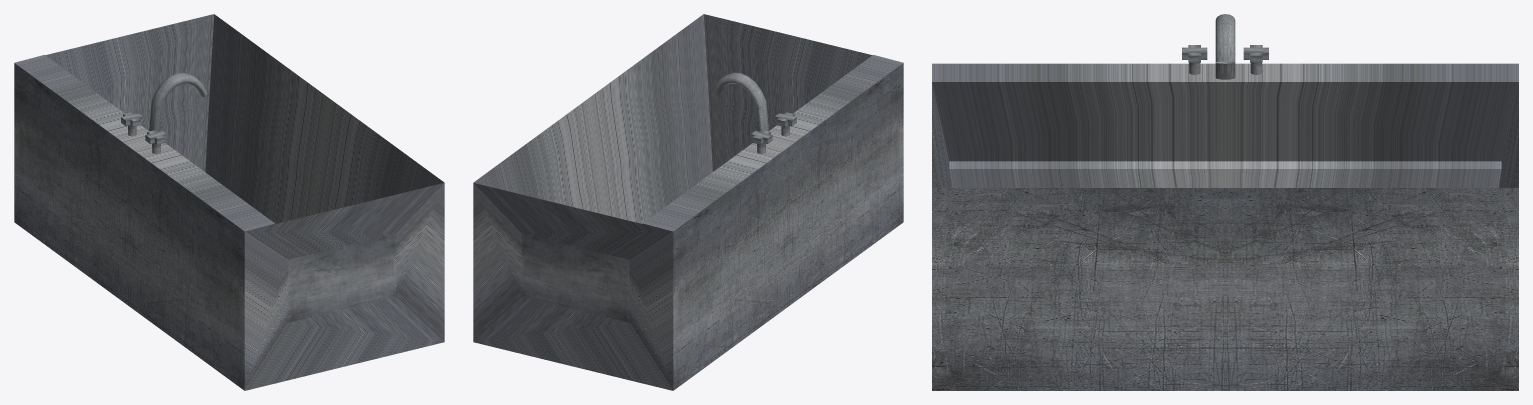
Rendered from Bath.FBX.
The picture shows the model from 3 angles, left to right: view 1: azimuth 30°, elevation 25°; view 2: azimuth 150°, elevation 25°; view 3: azimuth 270°, elevation 25°; orthographic projection. The views are drawn at different scales.
Visible parts, largest first — view 1: Box001; view 2: Box001; view 3: Box001.
Part boxes in pixels (left/top/right/bottom): Box001: left=14, top=14, right=444, bottom=390; Box001: left=473, top=14, right=903, bottom=390; Box001: left=932, top=14, right=1518, bottom=390.
Bounding box in the file's own units: 29.53 × 31.14 × 58.97.
1 material, 1 textured.
